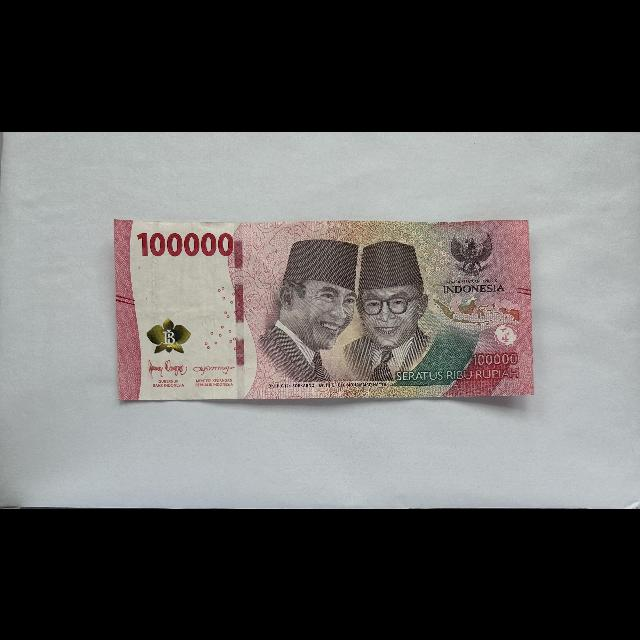Asli-100k: (112, 217, 538, 402)
Tinta-Asli-100k: (147, 317, 192, 354)
